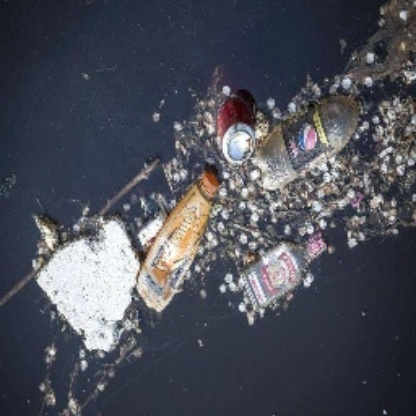bottle: (138, 171, 220, 309), (240, 234, 331, 313), (215, 93, 256, 166)
plastic-garbage: (34, 217, 139, 349)
